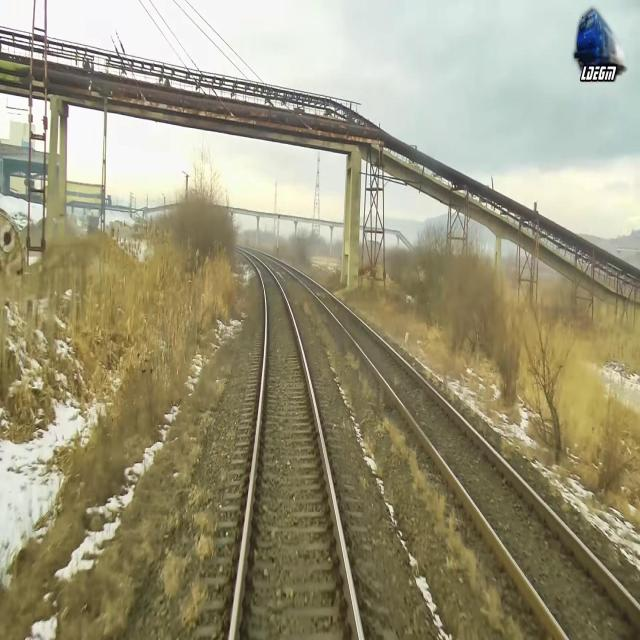rail-track: (259, 252, 640, 639), (234, 247, 359, 639)
